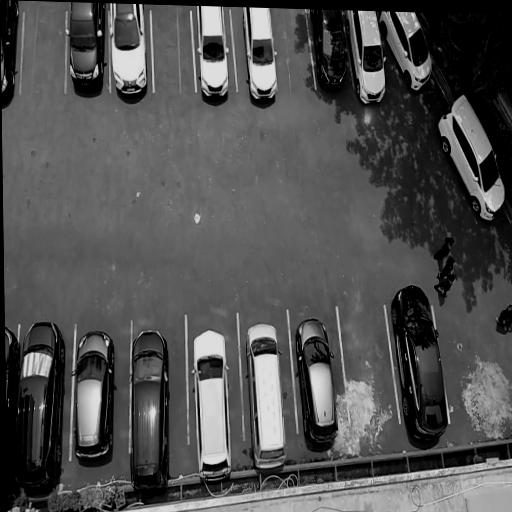Car: (389, 281, 454, 442), (436, 91, 507, 227), (19, 317, 68, 505), (124, 322, 173, 499), (186, 314, 235, 483), (241, 313, 291, 470), (69, 322, 120, 472), (293, 305, 339, 451), (106, 3, 150, 113), (64, 2, 108, 105), (382, 11, 436, 94), (192, 6, 232, 109), (350, 11, 388, 111), (244, 7, 279, 110), (312, 9, 350, 97), (5, 323, 20, 494), (0, 0, 22, 103)
Space Available: (348, 293, 387, 453), (25, 1, 63, 101), (153, 5, 190, 102), (278, 8, 307, 94)
